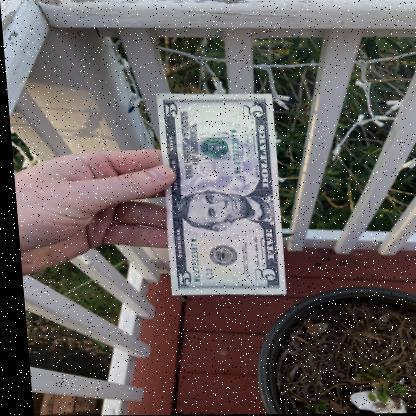five-front: (154, 94, 283, 296)
